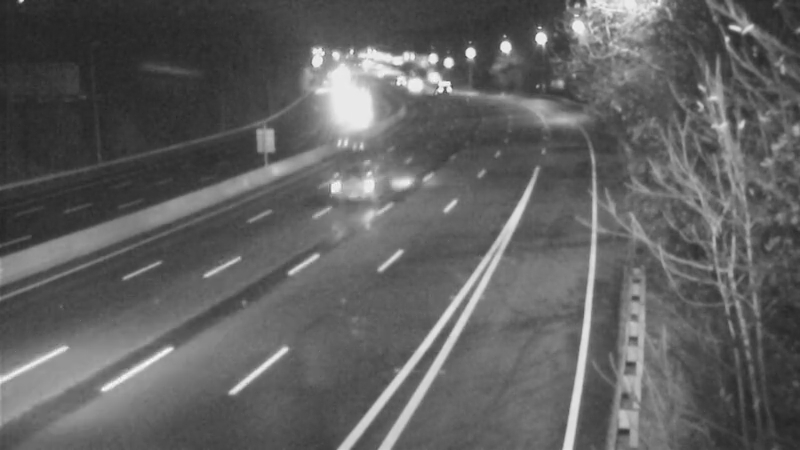vehicle: (312, 139, 392, 219), (386, 60, 436, 110), (414, 63, 464, 113), (328, 79, 378, 129)
